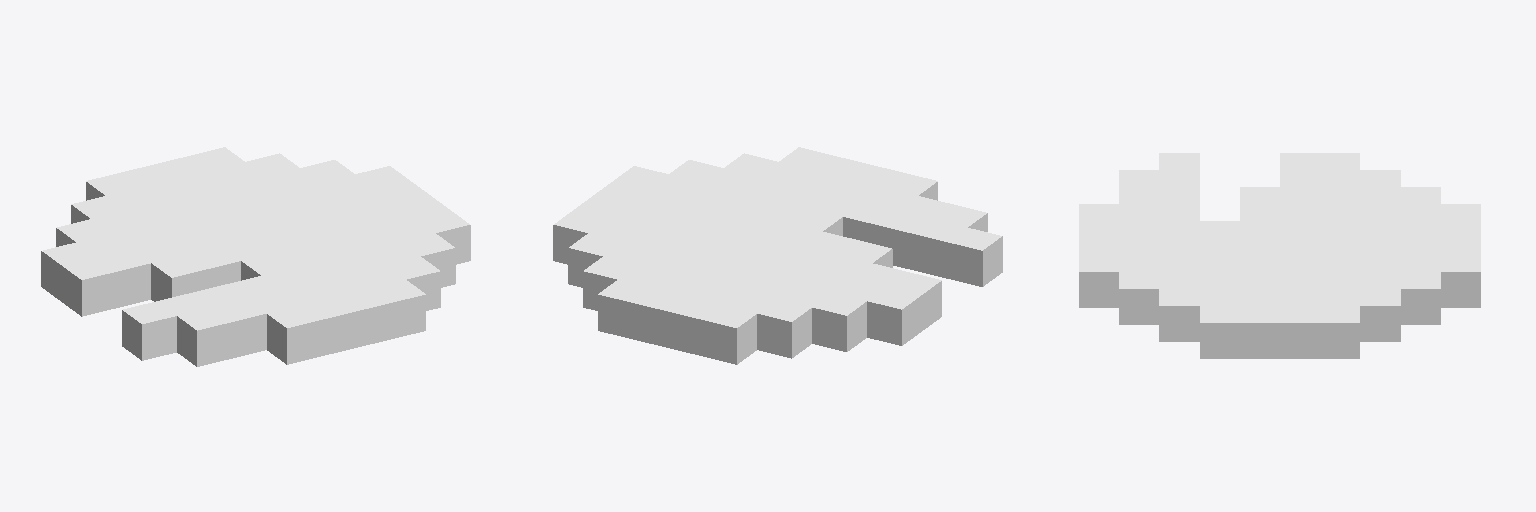
The model's file is Seerosenblatt.obj.
The picture shows the model from 3 angles: view 1: azimuth 30°, elevation 25°; view 2: azimuth 150°, elevation 25°; view 3: azimuth 270°, elevation 25°; orthographic projection.
Visible parts, largest first — view 1: object 1; view 2: object 1; view 3: object 1.
Boxes of the visible parts, x1,y1,x2,y2 form: object 1: [41, 147, 470, 366]; object 1: [553, 147, 1002, 364]; object 1: [1079, 153, 1480, 358].
Bounding box in the file's own units: 1 × 0.1 × 1.